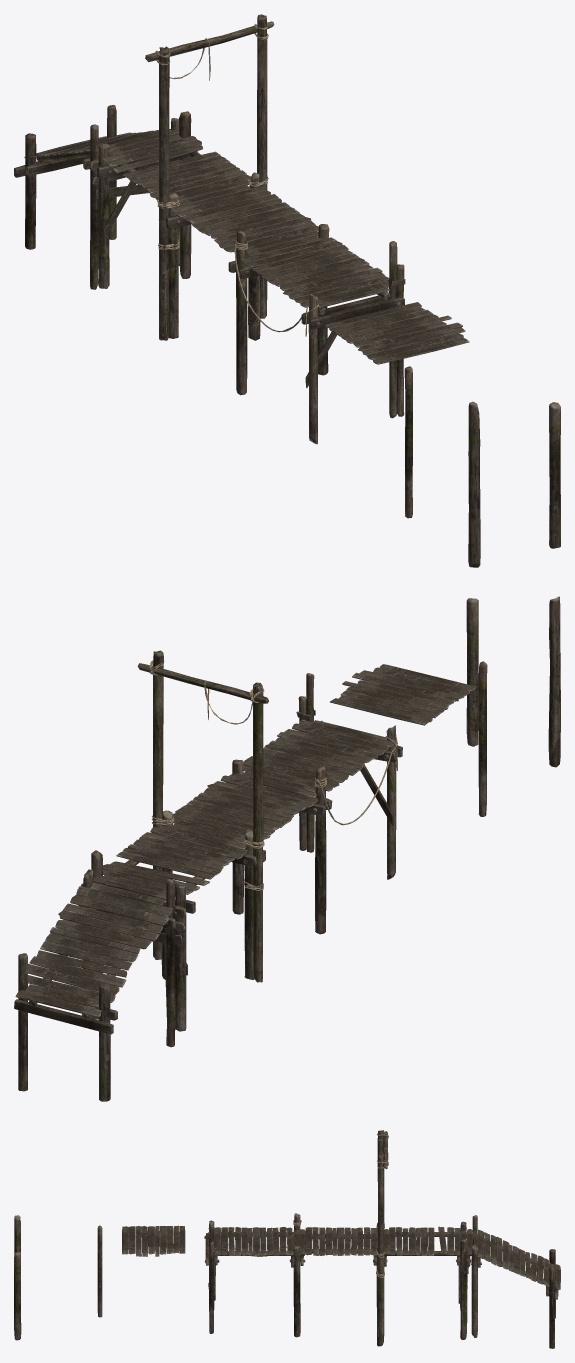
The model's file is modular_wooden_pier.glb.
3 views of the same model, one above another, from view 1: azimuth 30°, elevation 25°; view 2: azimuth 150°, elevation 25°; view 3: azimuth 270°, elevation 25° (orthographic). The views are drawn at different scales.
Parts seen in each view (by area): view 1: modular_wooden_pier_section_01, modular_wooden_pier_section_03, modular_wooden_pier_section_02, modular_wooden_pier_section_05, modular_wooden_pier_section_04, modular_wooden_pier_planks, modular_wooden_pier_poles; view 2: modular_wooden_pier_section_04, modular_wooden_pier_section_01, modular_wooden_pier_section_03, modular_wooden_pier_section_02, modular_wooden_pier_section_05, modular_wooden_pier_planks, modular_wooden_pier_poles; view 3: modular_wooden_pier_section_01, modular_wooden_pier_section_04, modular_wooden_pier_section_03, modular_wooden_pier_section_02, modular_wooden_pier_planks, modular_wooden_pier_section_05, modular_wooden_pier_poles.
Boxes of the visible parts, x1=… form: modular_wooden_pier_section_01: x1=228, y1=224, x2=405, y2=444; modular_wooden_pier_section_03: x1=89, y1=111, x2=250, y2=288; modular_wooden_pier_section_02: x1=158, y1=172, x2=318, y2=340; modular_wooden_pier_section_05: x1=145, y1=14, x2=274, y2=340; modular_wooden_pier_section_04: x1=14, y1=105, x2=179, y2=289; modular_wooden_pier_planks: x1=325, y1=302, x2=469, y2=364; modular_wooden_pier_poles: x1=404, y1=366, x2=560, y2=567; modular_wooden_pier_section_04: x1=14, y1=869, x2=175, y2=1101; modular_wooden_pier_section_01: x1=226, y1=673, x2=402, y2=934; modular_wooden_pier_section_03: x1=81, y1=827, x2=247, y2=1031; modular_wooden_pier_section_02: x1=152, y1=775, x2=317, y2=979; modular_wooden_pier_section_05: x1=137, y1=650, x2=268, y2=982; modular_wooden_pier_planks: x1=330, y1=664, x2=476, y2=725; modular_wooden_pier_poles: x1=466, y1=596, x2=560, y2=816; modular_wooden_pier_section_01: x1=204, y1=1213, x2=305, y2=1337; modular_wooden_pier_section_04: x1=471, y1=1215, x2=560, y2=1348; modular_wooden_pier_section_03: x1=376, y1=1221, x2=473, y2=1339; modular_wooden_pier_section_02: x1=292, y1=1222, x2=389, y2=1346; modular_wooden_pier_planks: x1=122, y1=1225, x2=185, y2=1256; modular_wooden_pier_section_05: x1=376, y1=1130, x2=388, y2=1336; modular_wooden_pier_poles: x1=14, y1=1215, x2=102, y2=1340.
Bounding box in the file's own units: 3.08 × 7.51 × 19.03.
2 materials, 2 textured.
